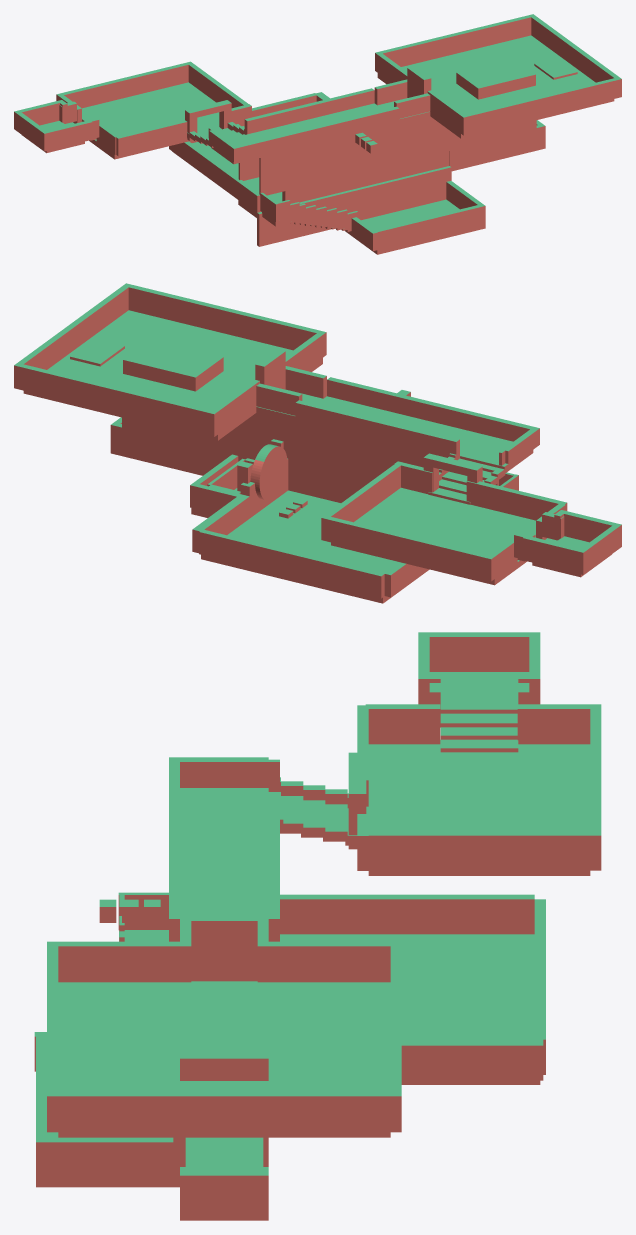
The model's file is dungeon-collision.glb.
3 views of the same model, one above another, from view 1: azimuth 30°, elevation 25°; view 2: azimuth 150°, elevation 25°; view 3: azimuth 270°, elevation 25° (orthographic). The views are drawn at different scales.
Visible parts, largest first — view 1: P02_Shaft_Wall_North, P02_StairD_Rail_S_01, StaticMeshActor_5, StaticMeshActor_28, StaticMeshActor_27, MCP_TEST_Candidate2_Wall_South, StaticMeshActor_6, MCP_TEST_MidBossFloor_East, MCP_TEST_TransformStair_Blocker, P02_Candidate1_Wall_WestNorth, StaticMeshActor_29, MCP_TEST_MidBossFloor_West (+35 smaller); view 2: P02_Shaft_Wall_South, StaticMeshActor_5, MCP_TEST_Candidate1_Floor, StaticMeshActor_27, StaticMeshActor_28, MCP_TEST_Candidate1_Wall_South, StaticMeshActor_6, MCP_TEST_MidBossFloor_East, MCP_TEST_TransformStair_Blocker, StaticMeshActor_29, MCP_TEST_MidBossFloor_West, P02_LowerRail_Main_South (+36 smaller); view 3: StaticMeshActor_5, MCP_TEST_Candidate1_Floor, StaticMeshActor_29, MCP_TEST_MidBossFloor_West, StaticMeshActor_9, P02_Candidate1_Wall_WestNorth, StaticMeshActor_20, MCP_TEST_TransformStair_Blocker, MCP_TEST_MidBossFloor_South, MCP_TEST_MidBossFloor_North, MCP_TEST_Candidate1_Wall_EastSouth, MCP_TEST_MidBossFloor_East (+28 smaller).
Part boxes in pixels (left/top/right/bottom): P02_Shaft_Wall_North: left=259, top=111, right=536, bottom=195; P02_StairD_Rail_S_01: left=257, top=166, right=451, bottom=246; StaticMeshActor_5: left=82, top=82, right=243, bottom=159; StaticMeshActor_28: left=461, top=77, right=621, bottom=135; StaticMeshActor_27: left=375, top=14, right=535, bottom=72; MCP_TEST_Candidate2_Wall_South: left=282, top=151, right=449, bottom=203; StaticMeshActor_6: left=56, top=61, right=192, bottom=108; MCP_TEST_MidBossFloor_East: left=483, top=35, right=614, bottom=112; MCP_TEST_TransformStair_Blocker: left=456, top=58, right=535, bottom=99; P02_Candidate1_Wall_WestNorth: left=177, top=141, right=261, bottom=212; StaticMeshActor_29: left=531, top=16, right=618, bottom=82; MCP_TEST_MidBossFloor_West: left=377, top=61, right=508, bottom=138; P02_Shaft_Wall_South: left=122, top=406, right=470, bottom=487; StaticMeshActor_5: left=331, top=487, right=535, bottom=585; MCP_TEST_Candidate1_Floor: left=201, top=490, right=429, bottom=603; StaticMeshActor_27: left=14, top=363, right=217, bottom=436; StaticMeshActor_28: left=123, top=283, right=326, bottom=357; MCP_TEST_Candidate1_Wall_South: left=199, top=529, right=384, bottom=598; StaticMeshActor_6: left=321, top=515, right=494, bottom=581; MCP_TEST_MidBossFloor_East: left=23, top=310, right=188, bottom=408; MCP_TEST_TransformStair_Blocker: left=123, top=339, right=223, bottom=391; StaticMeshActor_29: left=18, top=286, right=128, bottom=369; MCP_TEST_MidBossFloor_West: left=157, top=343, right=322, bottom=440; P02_LowerRail_Main_South: left=110, top=422, right=231, bottom=470; StaticMeshActor_5: left=368, top=740, right=590, bottom=875; MCP_TEST_Candidate1_Floor: left=280, top=934, right=540, bottom=1084; StaticMeshActor_29: left=58, top=1091, right=390, bottom=1132; MCP_TEST_MidBossFloor_West: left=58, top=981, right=390, bottom=1024; StaticMeshActor_9: left=368, top=831, right=590, bottom=870; P02_Candidate1_Wall_WestNorth: left=280, top=894, right=502, bottom=934; StaticMeshActor_20: left=180, top=823, right=268, bottom=912; MCP_TEST_TransformStair_Blocker: left=180, top=1002, right=268, bottom=1080; MCP_TEST_MidBossFloor_South: left=268, top=1024, right=390, bottom=1080; MCP_TEST_MidBossFloor_North: left=58, top=1024, right=179, bottom=1080; MCP_TEST_Candidate1_Wall_EastSouth: left=401, top=1038, right=543, bottom=1080; MCP_TEST_MidBossFloor_East: left=58, top=1081, right=390, bottom=1137.
Size of the model in its own units: 101 by 25 by 51.13.
